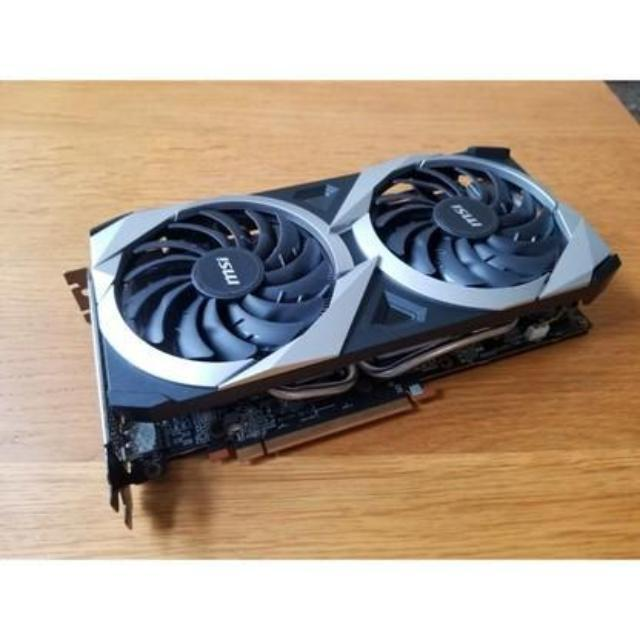GPU: (62, 136, 616, 459)
